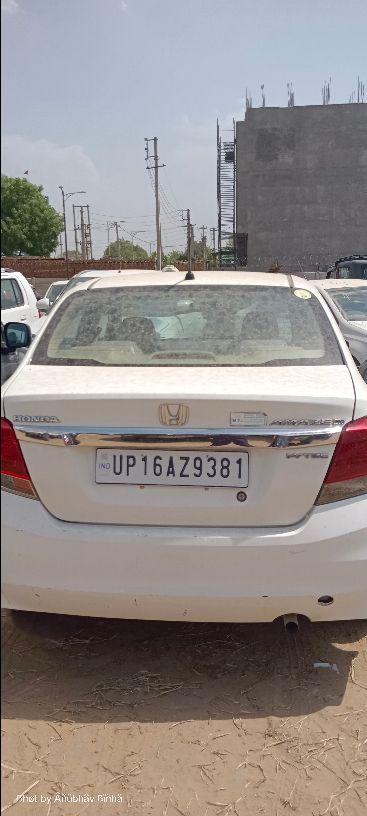license_plate: (94, 446, 249, 488)
